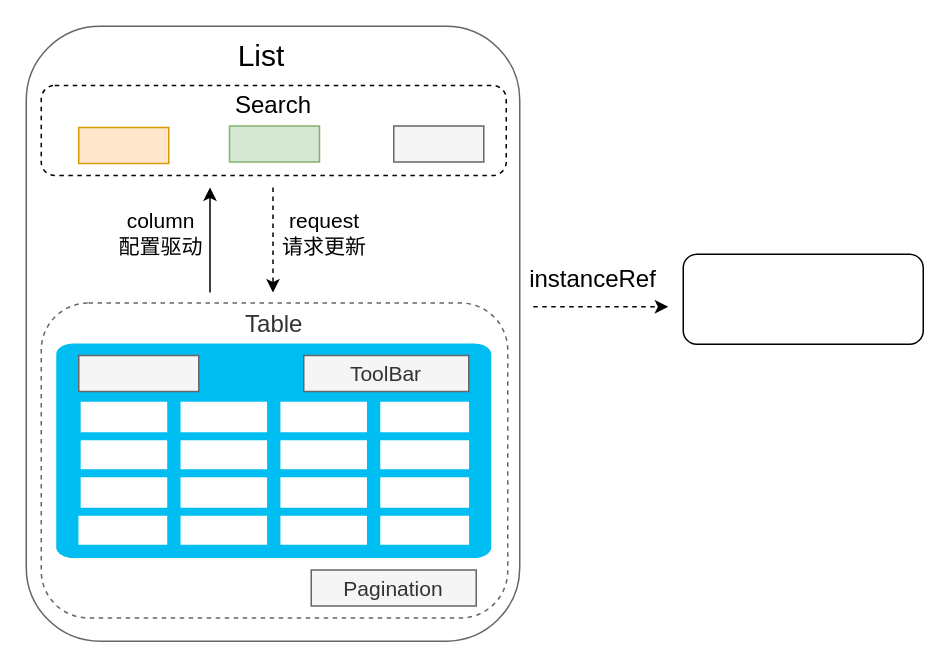
Image size: 950x668. Some labels were removed from this diagram. Each missing label, with the centre of its shape:
"Title" belongs at pixel 138 373.
"外部组件" belongs at pixel 802 298.
